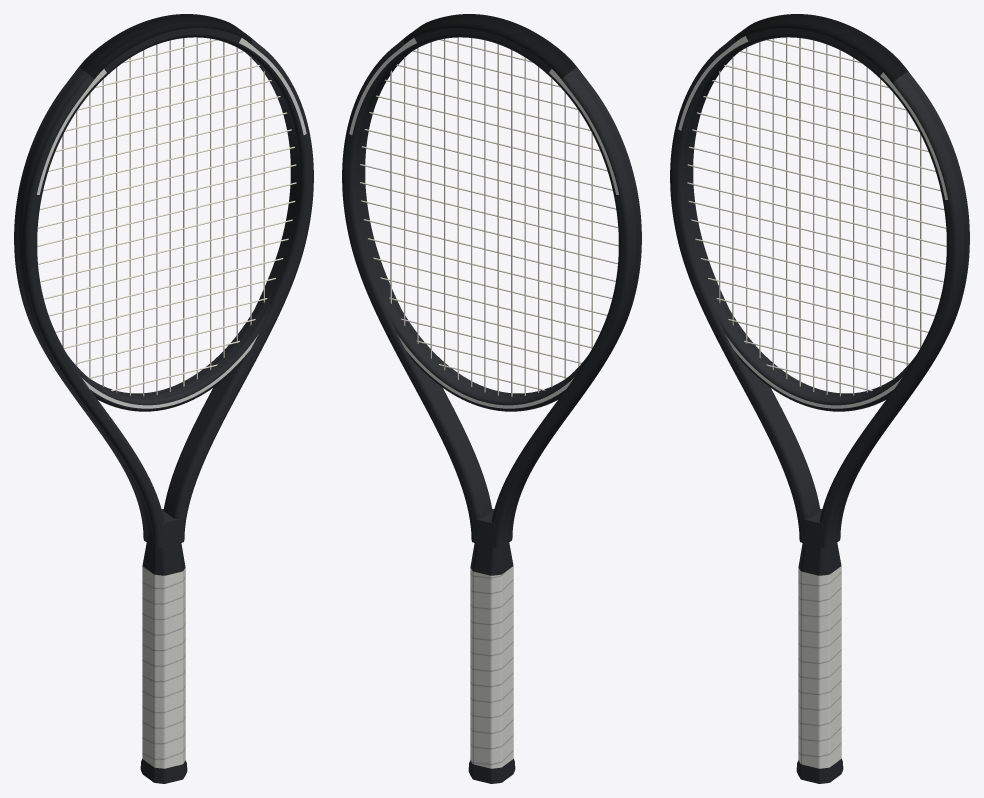
The model's file is racket.glb.
3 renders of one model, left to right at view 1: azimuth 30°, elevation 25°; view 2: azimuth 150°, elevation 25°; view 3: azimuth 330°, elevation 25°, orthographic.
Parts seen in each view (by area): view 1: racket_frame, racket_strings, racket_grip; view 2: racket_frame, racket_strings, racket_grip; view 3: racket_frame, racket_strings, racket_grip.
Part boxes in pixels (x1,y1,x2,y2): racket_frame: (14, 14, 313, 783); racket_strings: (37, 37, 296, 396); racket_grip: (142, 566, 185, 768); racket_frame: (342, 14, 641, 783); racket_strings: (360, 37, 618, 396); racket_grip: (470, 566, 513, 768); racket_frame: (670, 14, 969, 783); racket_strings: (687, 37, 946, 396); racket_grip: (798, 566, 841, 768).
Bounding box in the file's own units: 0.2762 × 0.6874 × 0.0352.
5 materials, 1 textured.
